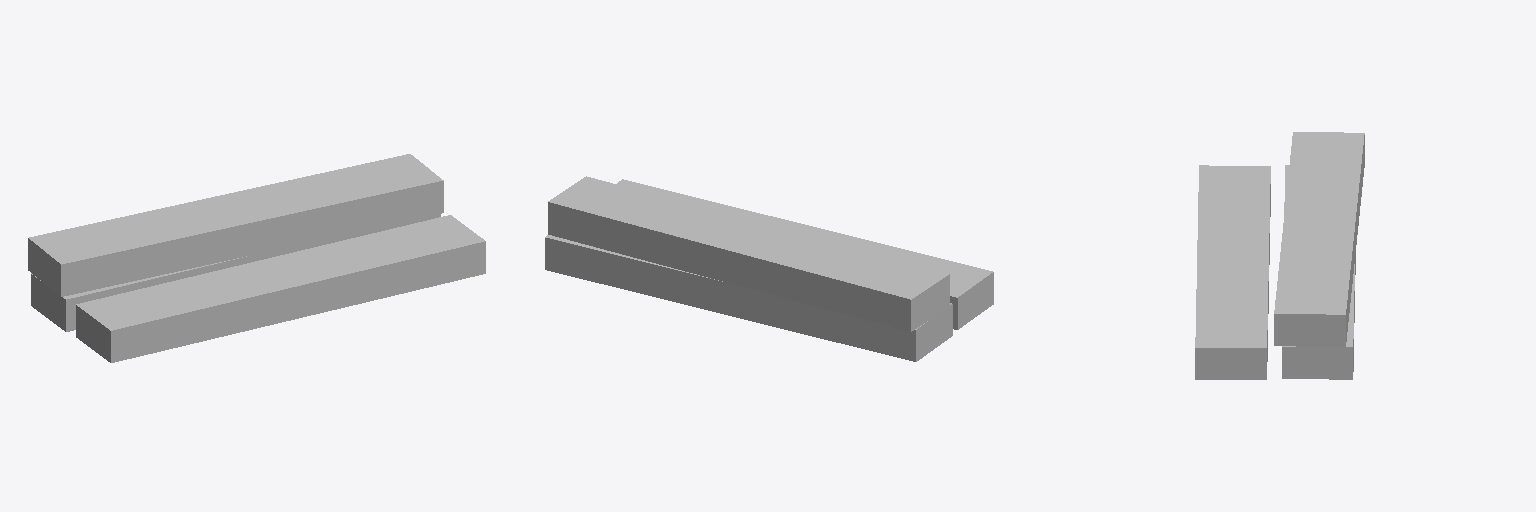
Rendered from deadminelumberpilesmall.obj.
3 views of the same model, side by side, from view 1: azimuth 30°, elevation 25°; view 2: azimuth 150°, elevation 25°; view 3: azimuth 270°, elevation 25° (orthographic).
Parts seen in each view (by area): view 1: object 1; view 2: object 1; view 3: object 1.
Part boxes in pixels (left/top/right/bottom): object 1: left=28, top=154, right=485, bottom=362; object 1: left=545, top=176, right=993, bottom=361; object 1: left=1195, top=132, right=1364, bottom=379.
Size of the model in its own units: 3.36 by 0.5556 by 1.31.